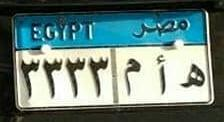3: (89, 55, 111, 99), (20, 57, 40, 99), (66, 56, 86, 97), (43, 57, 62, 100)
alif: (155, 57, 168, 92)
haa: (180, 62, 204, 91)
meem: (119, 58, 143, 98)
